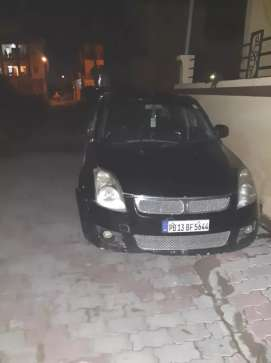license_plate: (159, 216, 216, 237)
